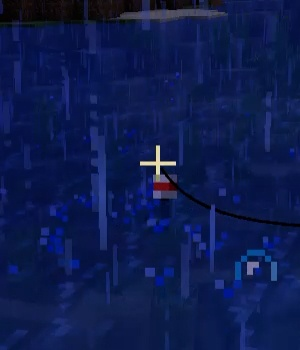up: (152, 172, 186, 222)
